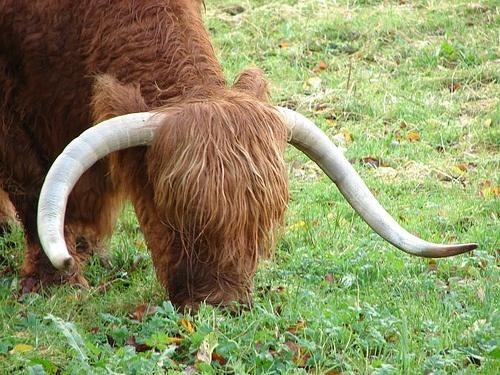cow: (1, 1, 480, 318)
